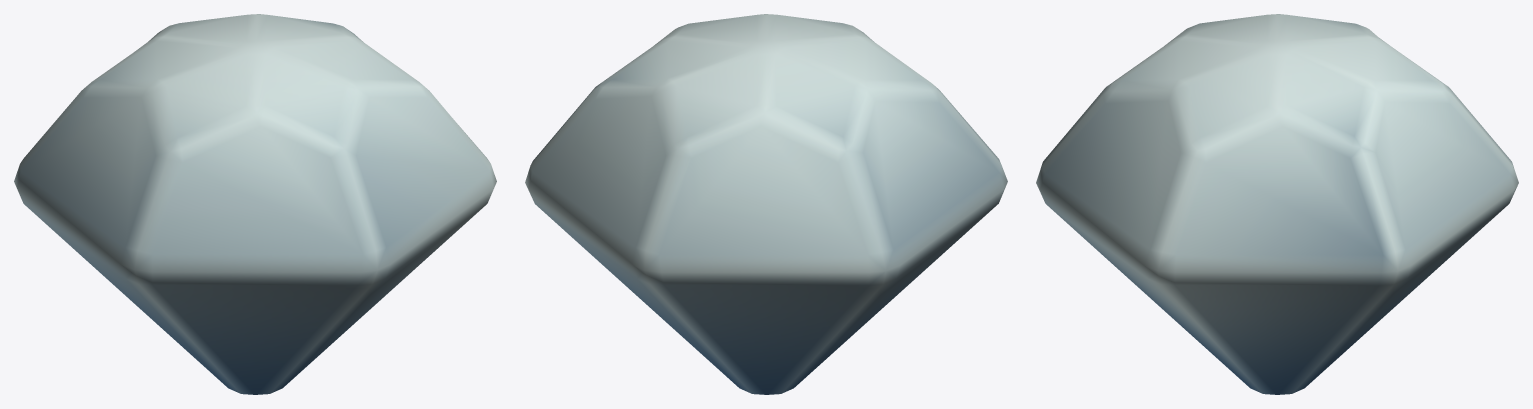
File: SM_gem_004.fbx
3 views of the same model, side by side, from view 1: azimuth 30°, elevation 25°; view 2: azimuth 150°, elevation 25°; view 3: azimuth 270°, elevation 25° (orthographic).
Parts seen in each view (by area): view 1: SM_gem_004; view 2: SM_gem_004; view 3: SM_gem_004.
Boxes of the visible parts, <box> form: SM_gem_004: <box>14,14,496,394</box>; SM_gem_004: <box>525,14,1007,394</box>; SM_gem_004: <box>1036,14,1518,394</box>.
Bounding box in the file's own units: 34.8 × 30.99 × 39.12.
